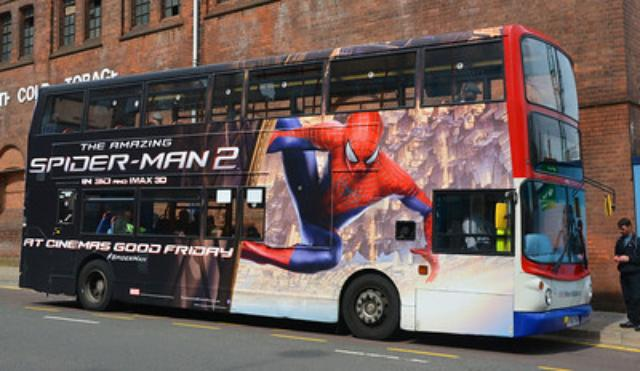bus: (19, 22, 594, 344)
